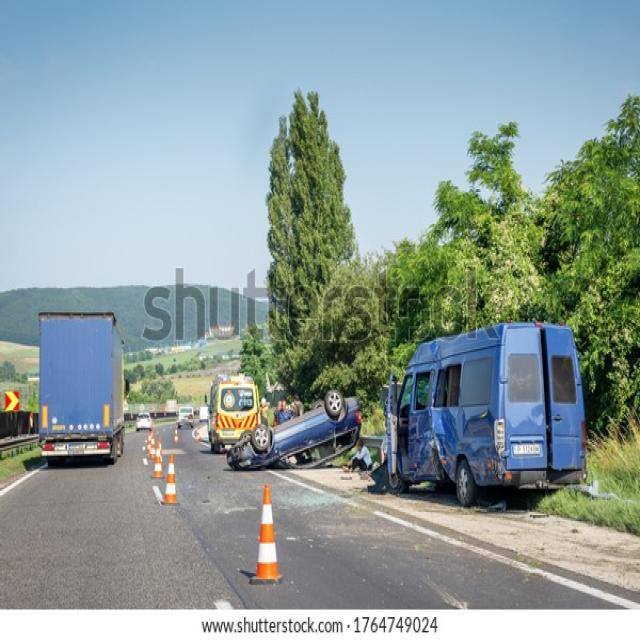Accident: (240, 305, 589, 516)
